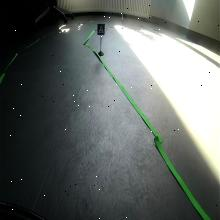crosswalk: (97, 23, 105, 36)
